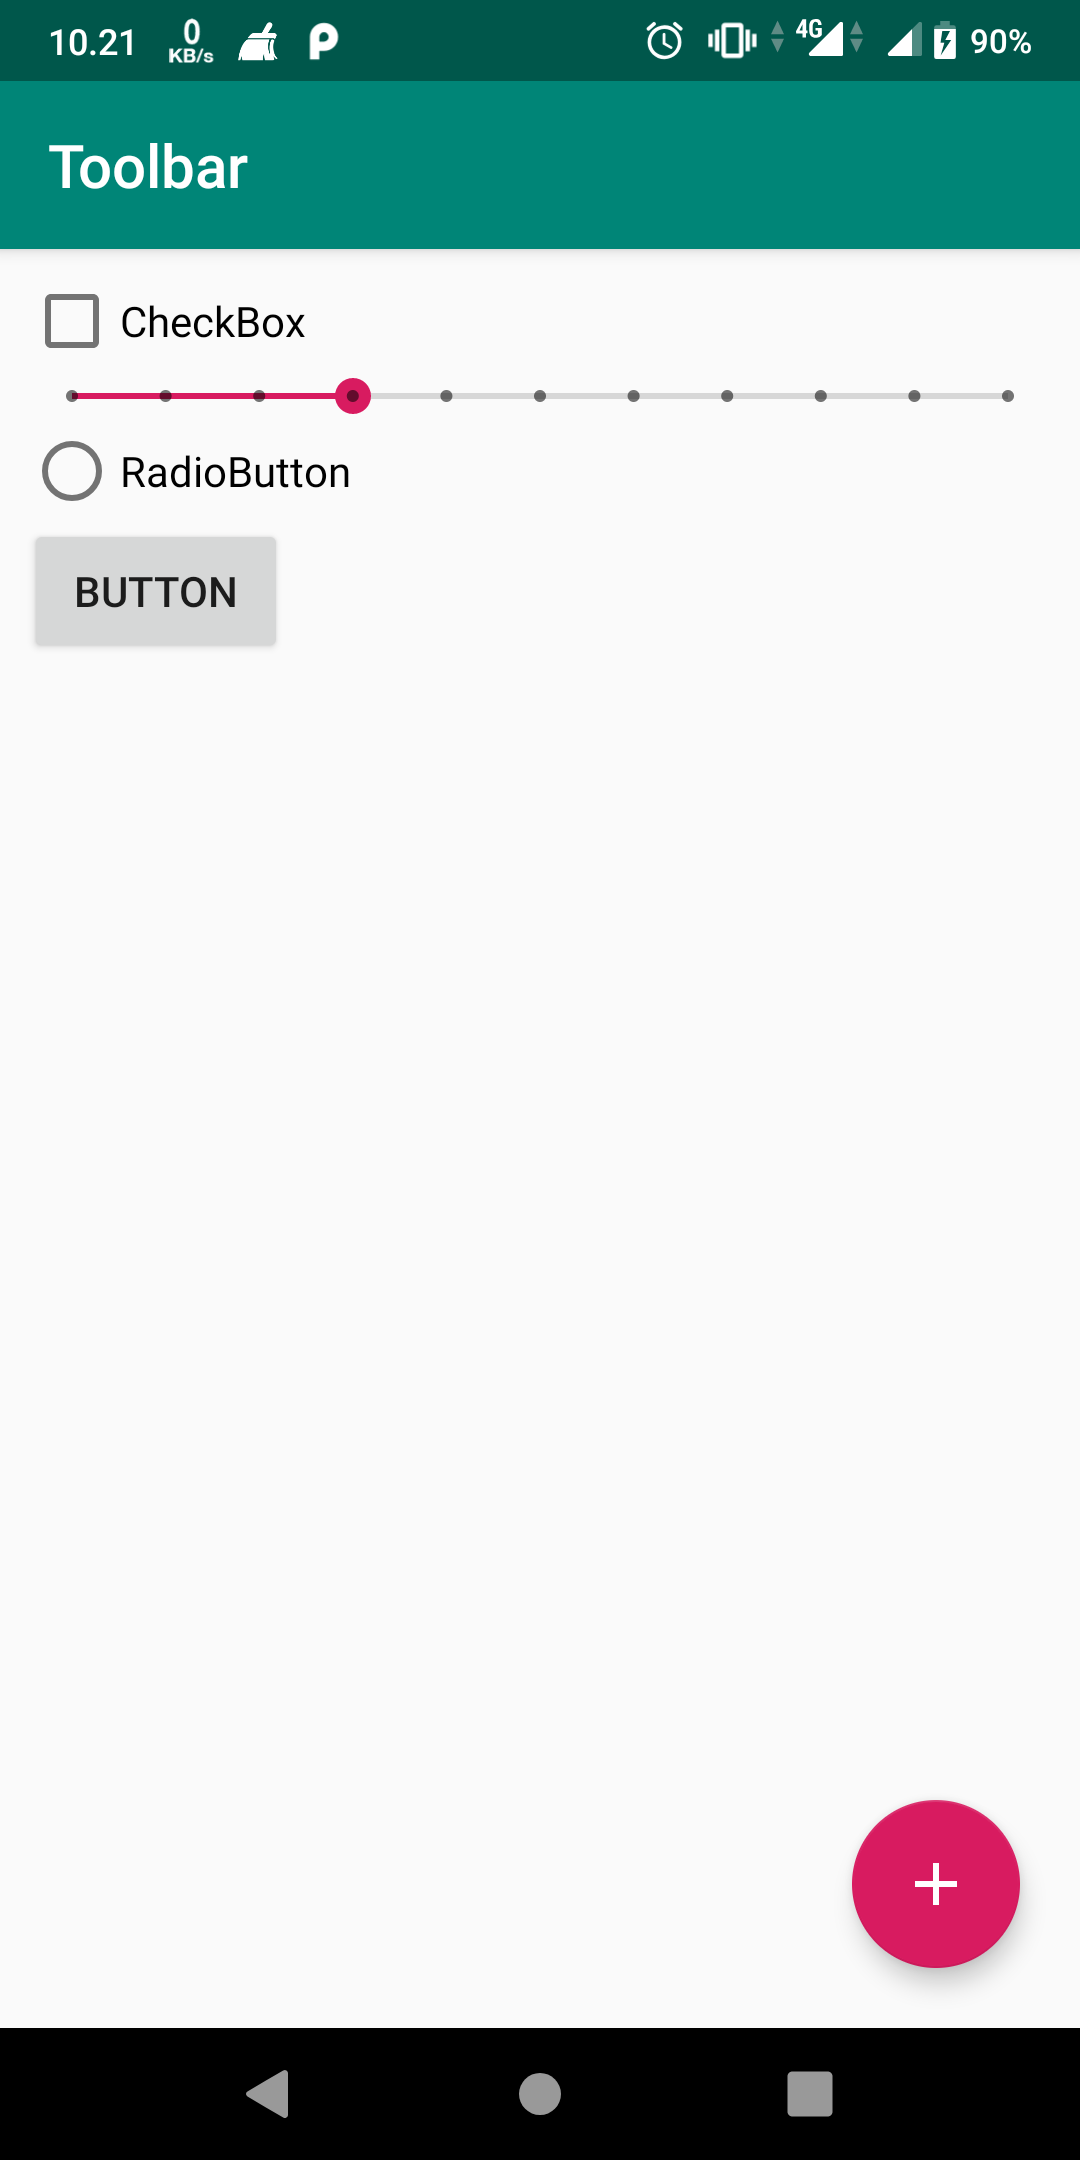button: (25, 530, 282, 657)
checkBox: (39, 282, 311, 357)
floatingButton: (851, 1796, 1025, 1967)
radioButton: (32, 428, 377, 519)
slider: (54, 373, 1028, 419)
toolbar: (6, 80, 1080, 248)
